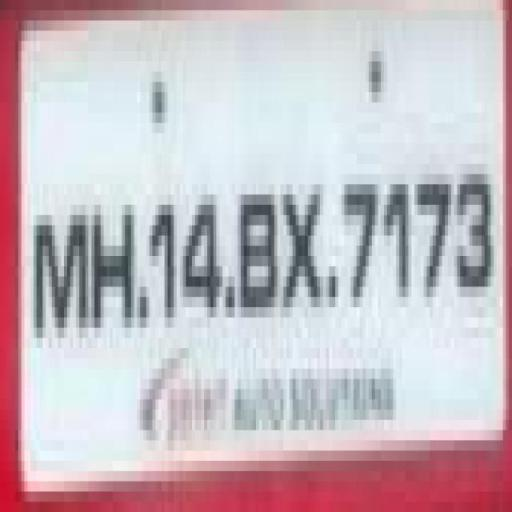number plate: (18, 20, 512, 462)
